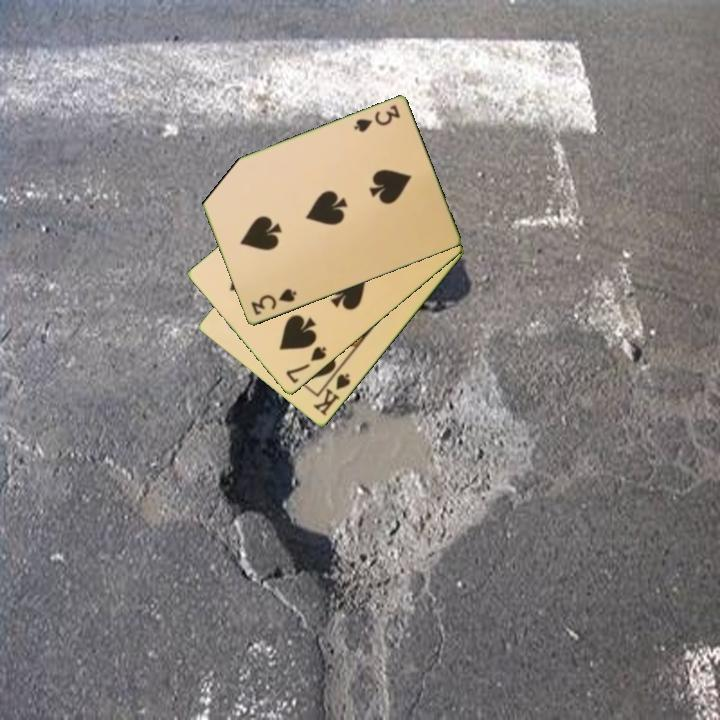3s: (350, 102, 403, 136), (247, 285, 299, 318)
7s: (282, 343, 330, 387)
Ks: (310, 370, 353, 419)
